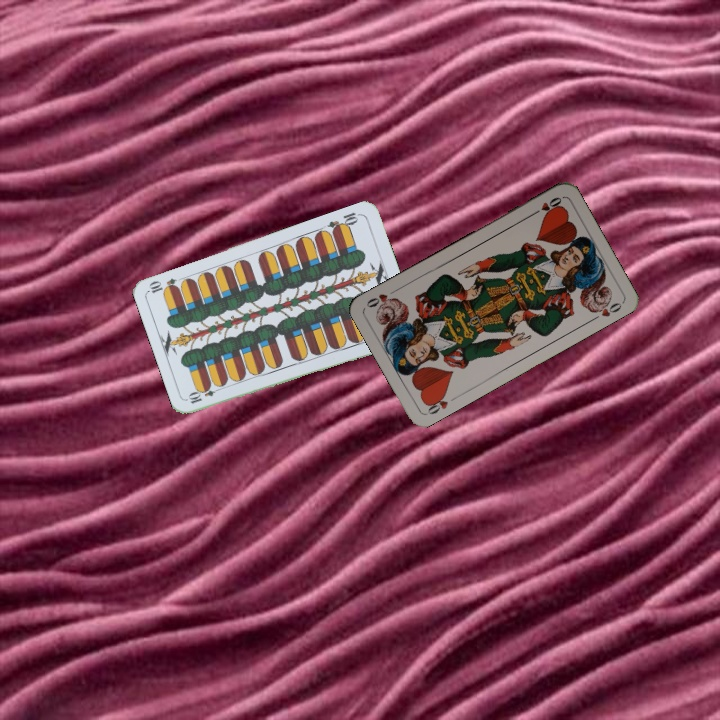E10: (324, 208, 363, 236), (184, 382, 224, 406)
HO: (527, 193, 564, 219), (422, 389, 451, 417)
